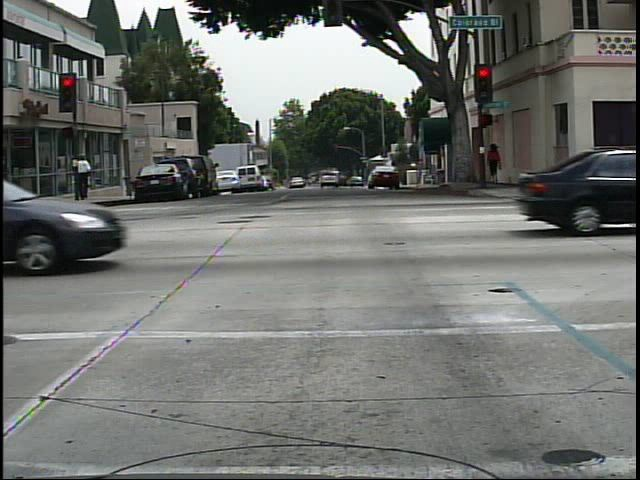person: (480, 138, 510, 191), (80, 151, 100, 202)
